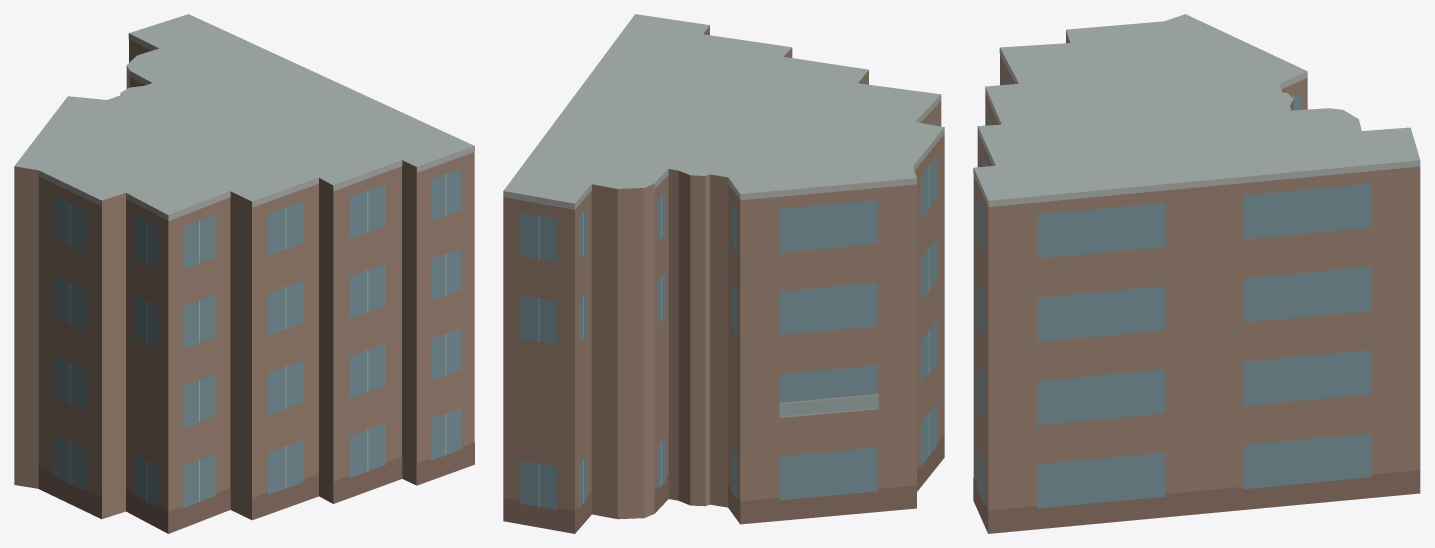
Rendered from survey-upis-32551583.glb.
3 views of the same model, side by side, from view 1: azimuth 30°, elevation 25°; view 2: azimuth 150°, elevation 25°; view 3: azimuth 270°, elevation 25° (orthographic). The views are drawn at different scales.
Visible parts, largest first — view 1: survey-upis-32551583.tmp; view 2: survey-upis-32551583.tmp; view 3: survey-upis-32551583.tmp.
Boxes of the visible parts, x1,y1,x2,y2 form: survey-upis-32551583.tmp: (14, 14, 474, 533); survey-upis-32551583.tmp: (503, 14, 944, 533); survey-upis-32551583.tmp: (973, 14, 1420, 533).
Size of the model in its own units: 15.59 by 12.95 by 15.76.
